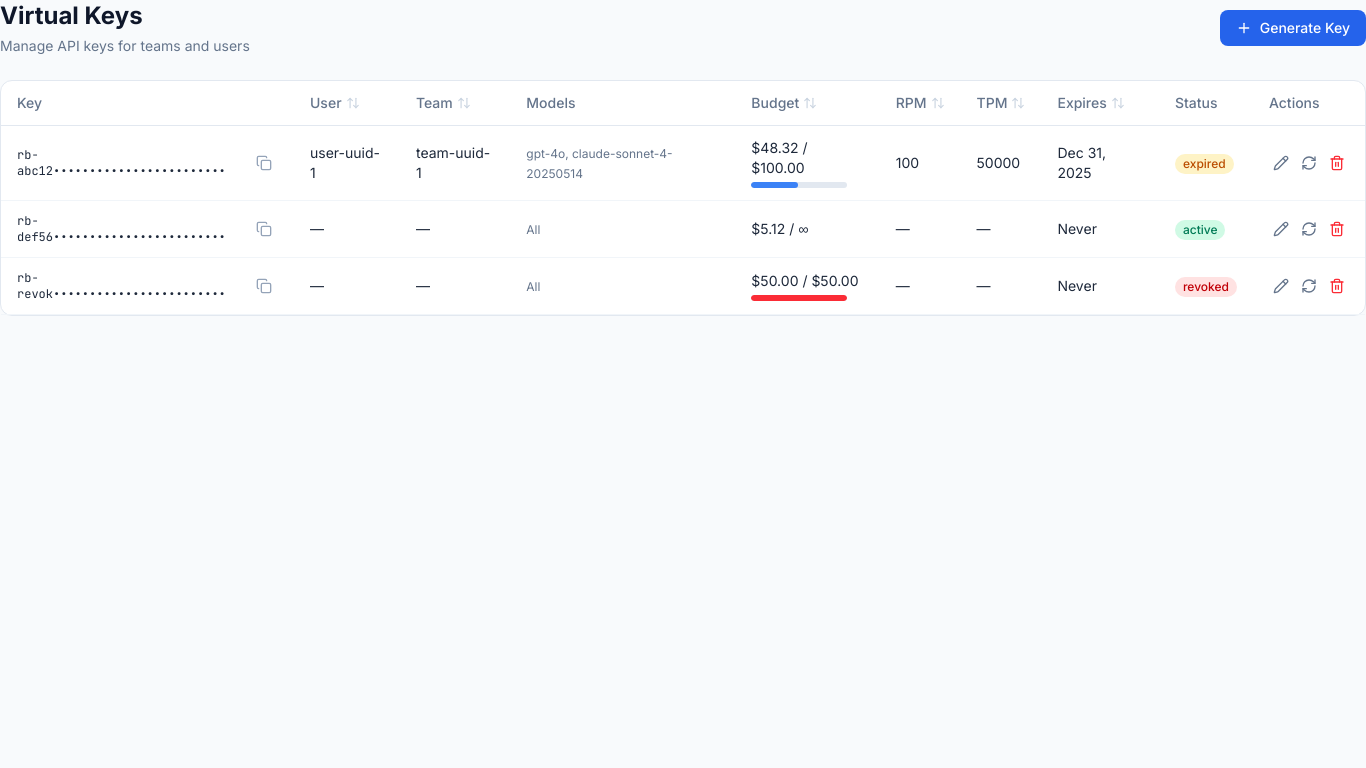
Test: Keys page › opens rotate modal when clicking rotate button
This screenshot has width=1366, height=768.
Click the button titled "Rotate" in the row of "rb-abc12••••••••••••••••••••••••": [1309, 163] box [1297,151,1321,175]
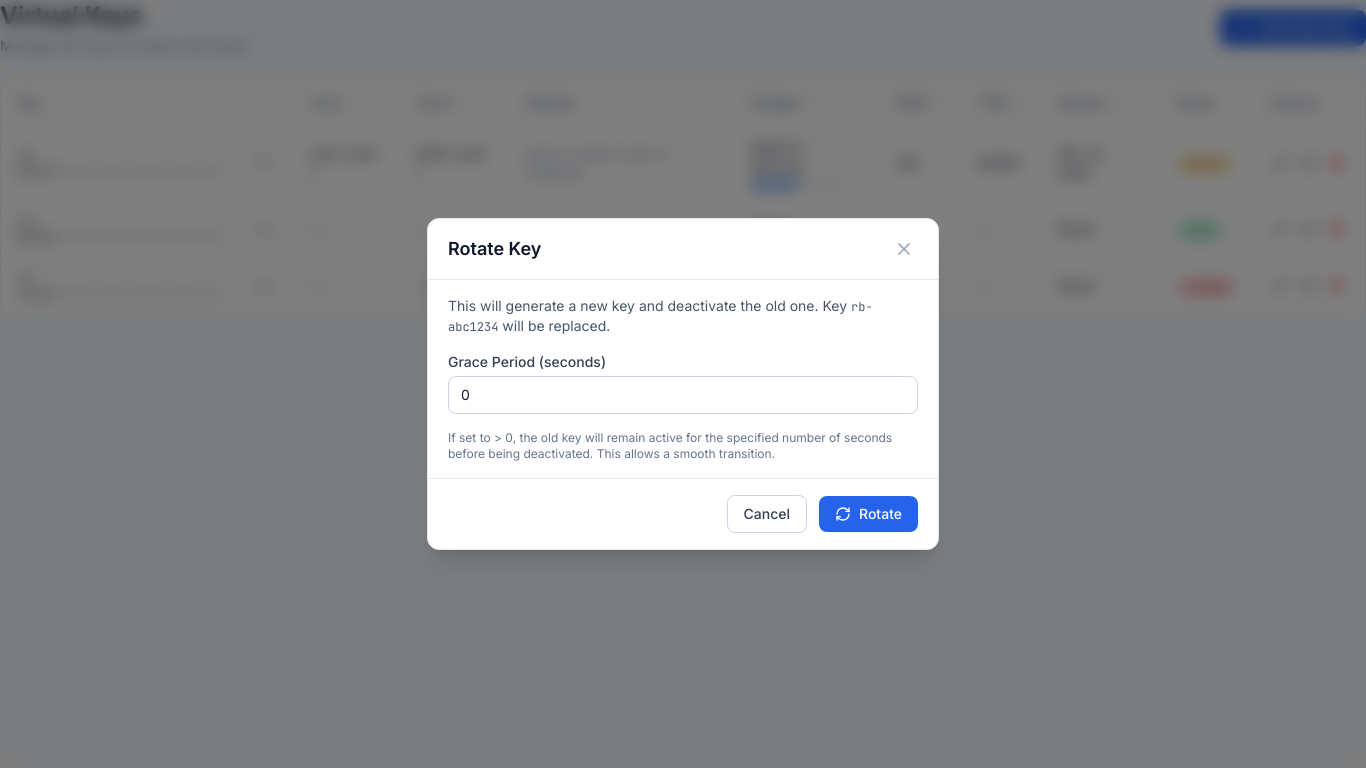
Expected: the heading "Rotate Key" is shown, [448,235,542,263]
Expected: the number field labelled "Grace Period (seconds)" is shown, [448,376,918,414]
Expected: the text "rb-abc1234" is shown, [448,299,873,335]
